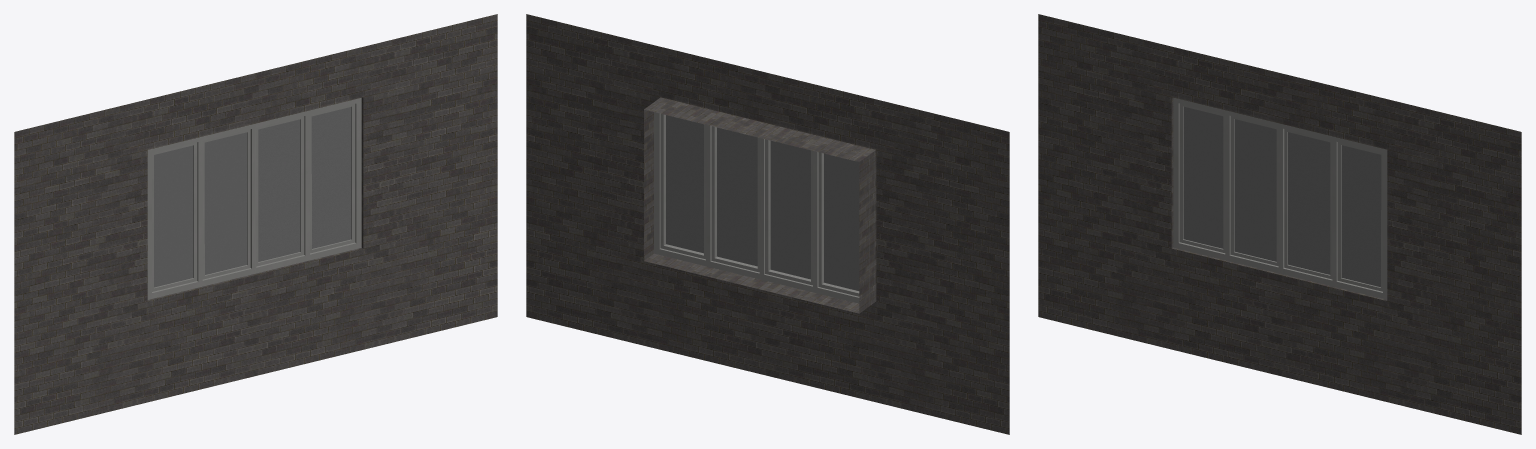
Rendered from Sm_Window05.fbx.
The picture shows the model from 3 angles, left to right: view 1: azimuth 30°, elevation 25°; view 2: azimuth 150°, elevation 25°; view 3: azimuth 330°, elevation 25°; orthographic projection.
Visible parts, largest first — view 1: Sm_Window05; view 2: Sm_Window05; view 3: Sm_Window05.
Boxes of the visible parts, left/top/right/bottom form: Sm_Window05: left=14, top=14, right=497, bottom=434; Sm_Window05: left=526, top=14, right=1009, bottom=434; Sm_Window05: left=1038, top=14, right=1521, bottom=434.
Size of what is drawn, in the model's own units: 501 by 30.37 by 300.
Materials: 3 (3 with a texture image).
